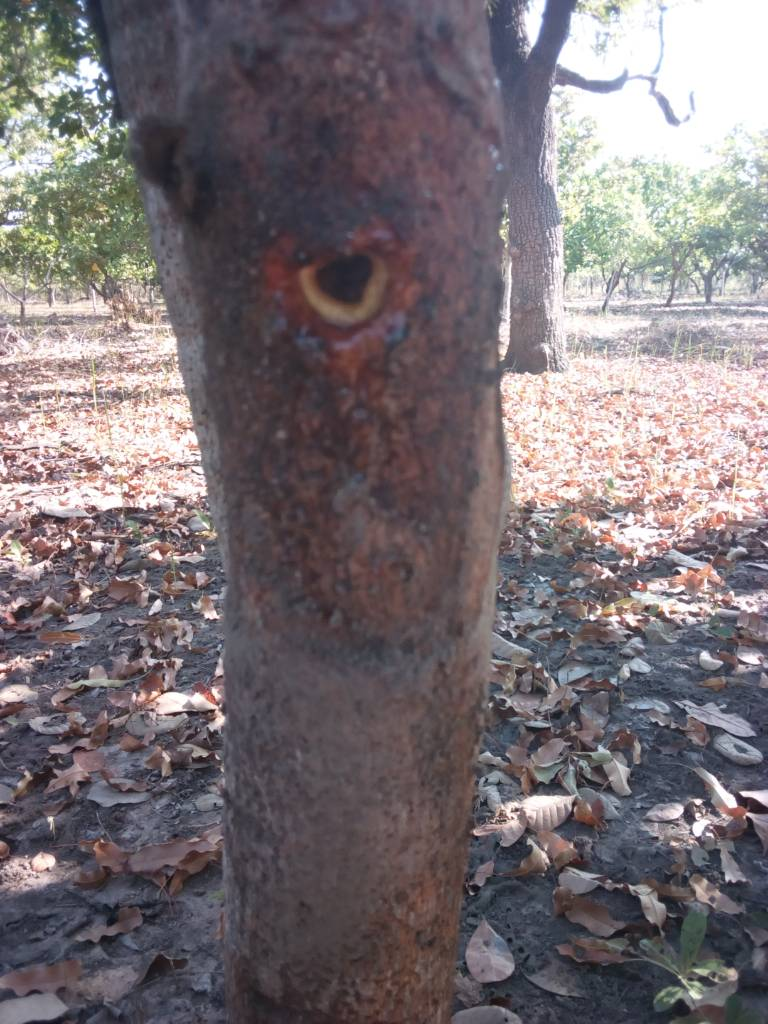Apate terebrans: (266, 225, 424, 358)
